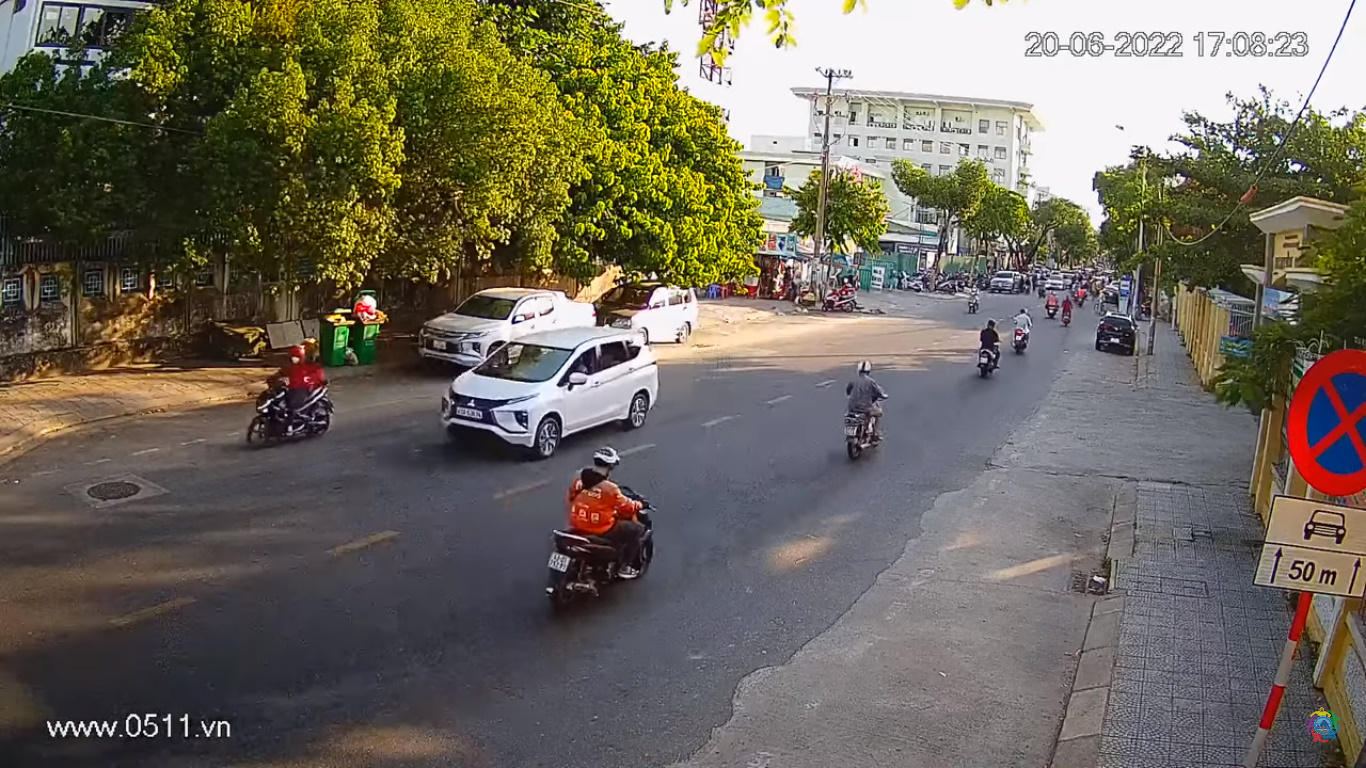car: (445, 327, 662, 459)
